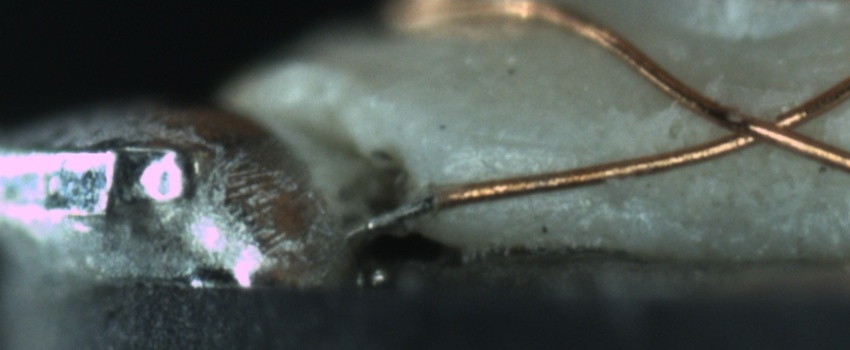CL: (690, 95, 830, 157)
DL: (436, 114, 585, 176)
TS: (344, 189, 439, 243)
